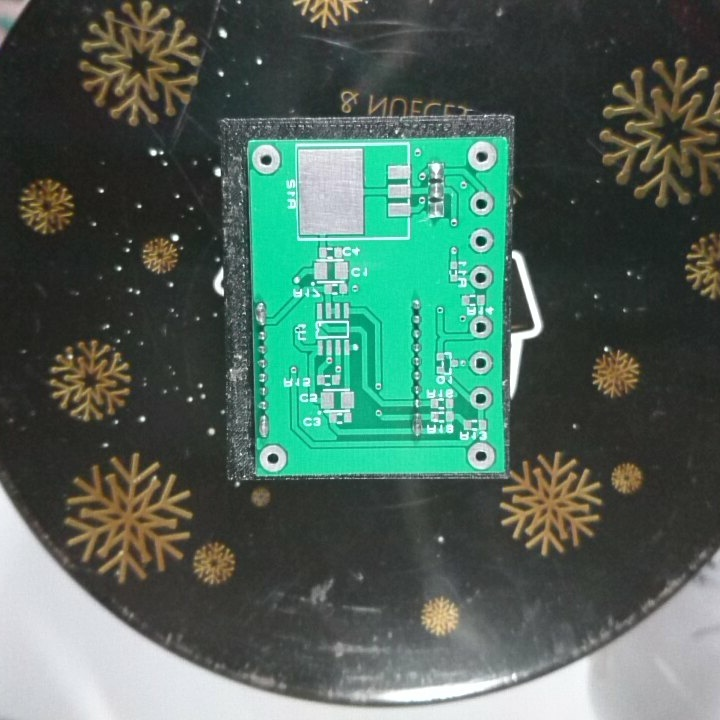F: (251, 141, 283, 176), (465, 140, 500, 172), (465, 440, 497, 471), (257, 442, 290, 472), (466, 350, 496, 378), (467, 190, 496, 218), (467, 263, 496, 290), (467, 385, 496, 412), (468, 226, 494, 255), (468, 316, 495, 340)
P: (252, 299, 268, 328), (408, 409, 424, 438), (257, 412, 272, 439)
